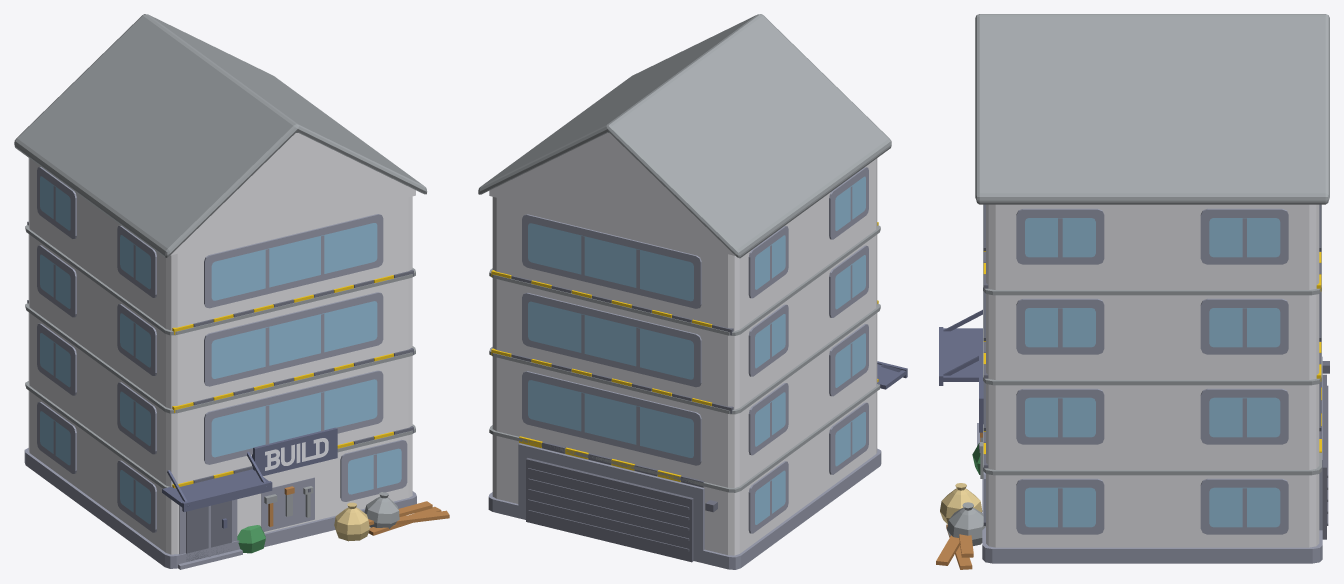
Rendered from shop-construction-1x1-t4-tone-a.glb.
3 renders of one model, left to right at view 1: azimuth 30°, elevation 25°; view 2: azimuth 150°, elevation 25°; view 3: azimuth 270°, elevation 25°, orthographic. The views are drawn at different scales.
Visible parts, largest first — view 1: shop-construction-1x1-t4-tone-a; view 2: shop-construction-1x1-t4-tone-a; view 3: shop-construction-1x1-t4-tone-a.
Part boxes in pixels (box(x1,y1,x2,y2)): shop-construction-1x1-t4-tone-a: box(14, 14, 449, 569); shop-construction-1x1-t4-tone-a: box(478, 14, 907, 569); shop-construction-1x1-t4-tone-a: box(936, 14, 1329, 569).
Size of the model in its own units: 1 by 1.49 by 1.11.
Materials: 1 (1 with a texture image).
